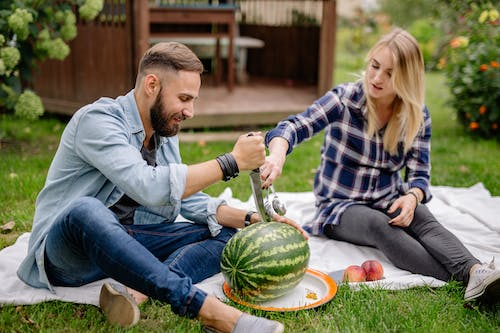knife: (245, 132, 269, 222)
